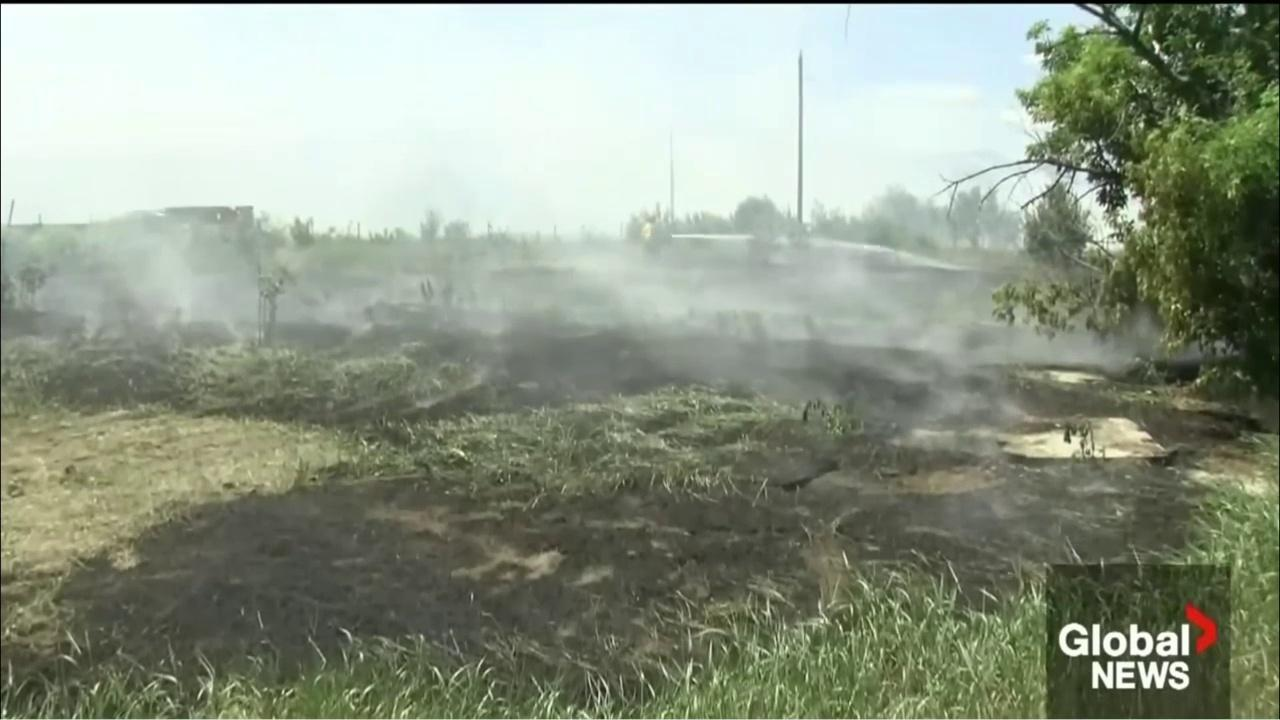smoke: (1, 4, 1251, 542)
